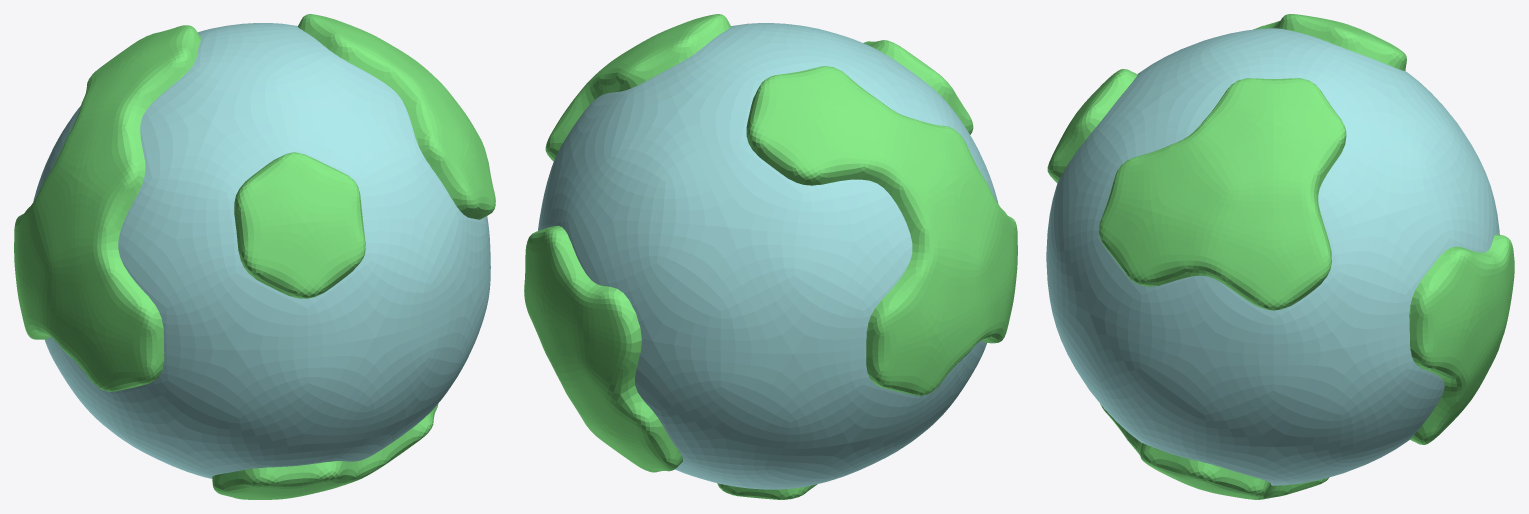
The model's file is Earth.glb.
3 renders of one model, left to right at view 1: azimuth 30°, elevation 25°; view 2: azimuth 150°, elevation 25°; view 3: azimuth 270°, elevation 25°, orthographic. The views are drawn at different scales.
Parts seen in each view (by area): view 1: Water, Earth; view 2: Water, Earth; view 3: Water, Earth.
Part boxes in pixels (<box>): Water: <box>33,23,490,478</box>; Earth: <box>14,14,495,499</box>; Water: <box>538,23,998,489</box>; Earth: <box>524,14,1017,499</box>; Water: <box>1046,28,1499,485</box>; Earth: <box>1047,14,1514,499</box>.
Bounding box in the file's own units: 214 × 211 × 208.
